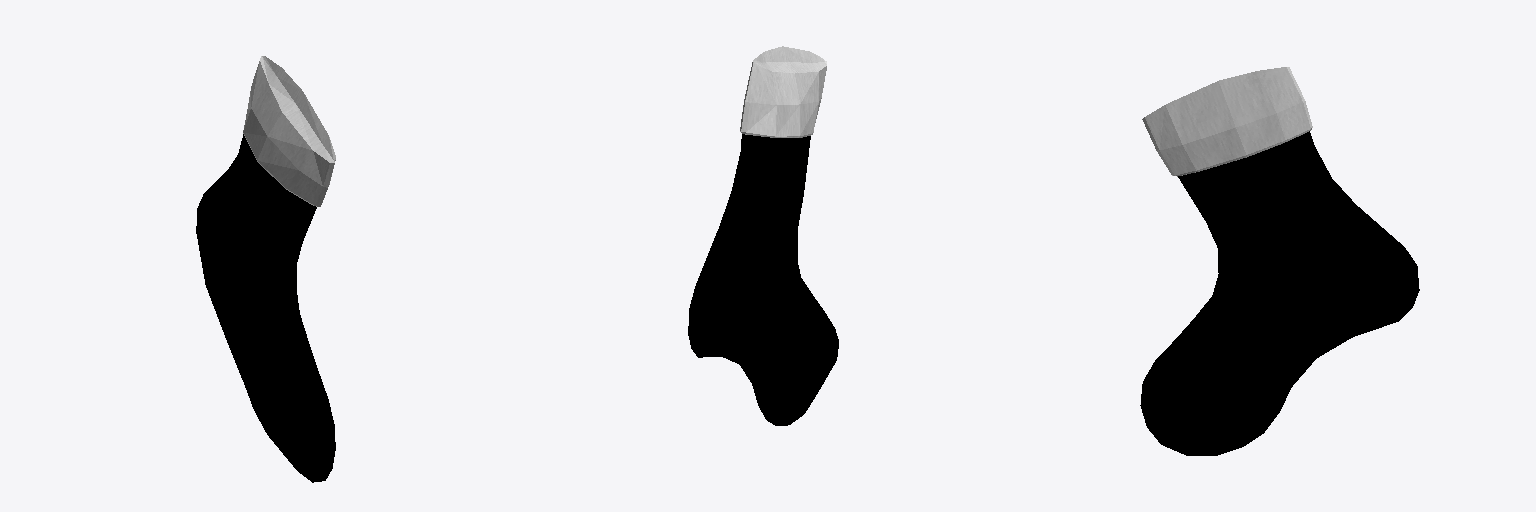
3 views of the same model, side by side, from view 1: azimuth 30°, elevation 25°; view 2: azimuth 150°, elevation 25°; view 3: azimuth 270°, elevation 25° (orthographic).
Visible parts, largest first — view 1: polySurface12; view 2: polySurface12; view 3: polySurface12.
Part boxes in pixels (x1,y1,x2,y2): polySurface12: (196,56,335,482); polySurface12: (688,46,838,425); polySurface12: (1140,67,1419,455).
Bounding box in the file's own units: 0.1158 × 0.8368 × 0.5427.
Materials: 2 (1 with a texture image).